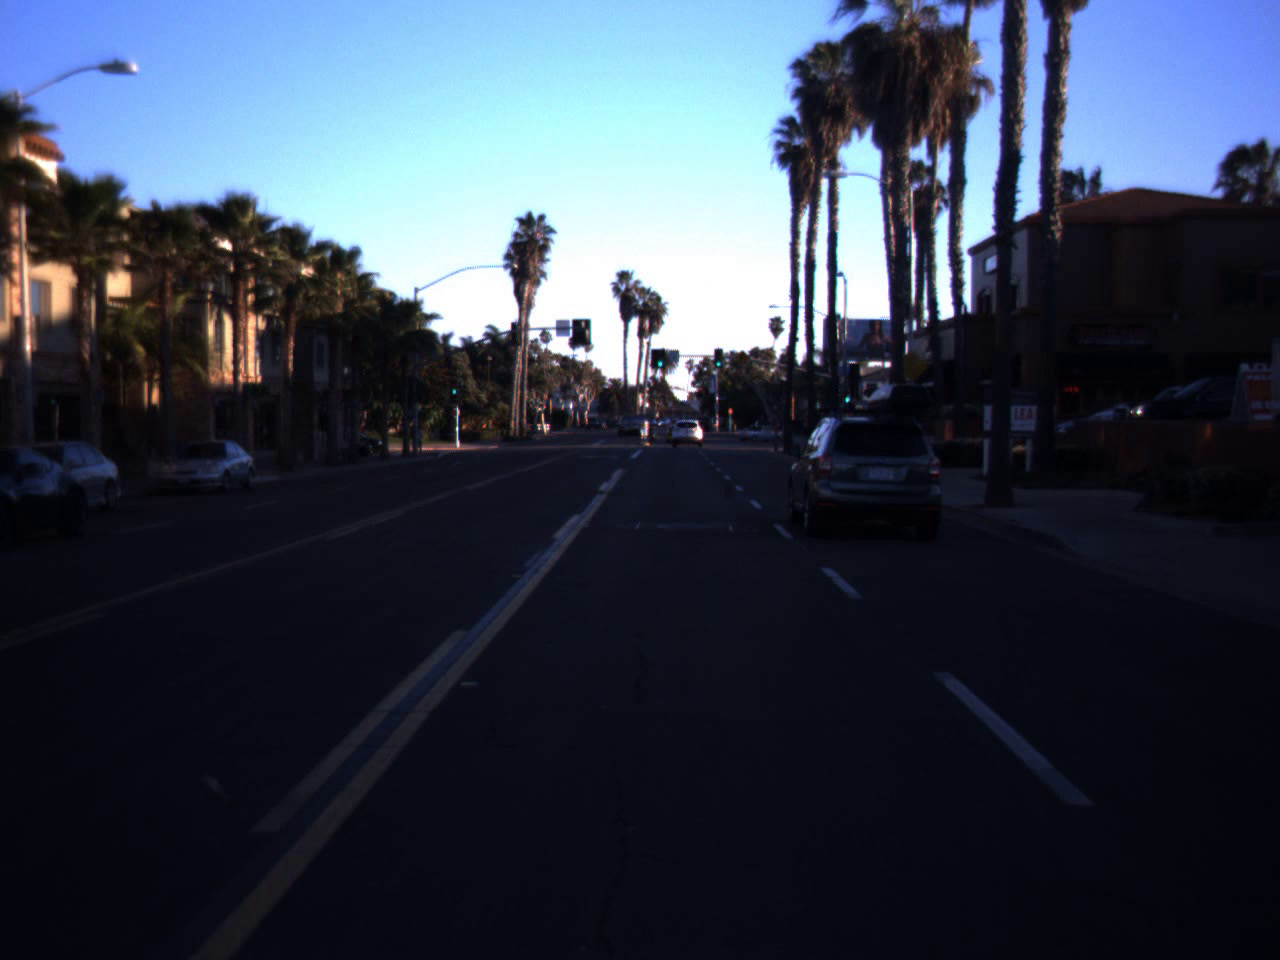go: (841, 384, 853, 404), (654, 348, 666, 368), (712, 348, 724, 368)
